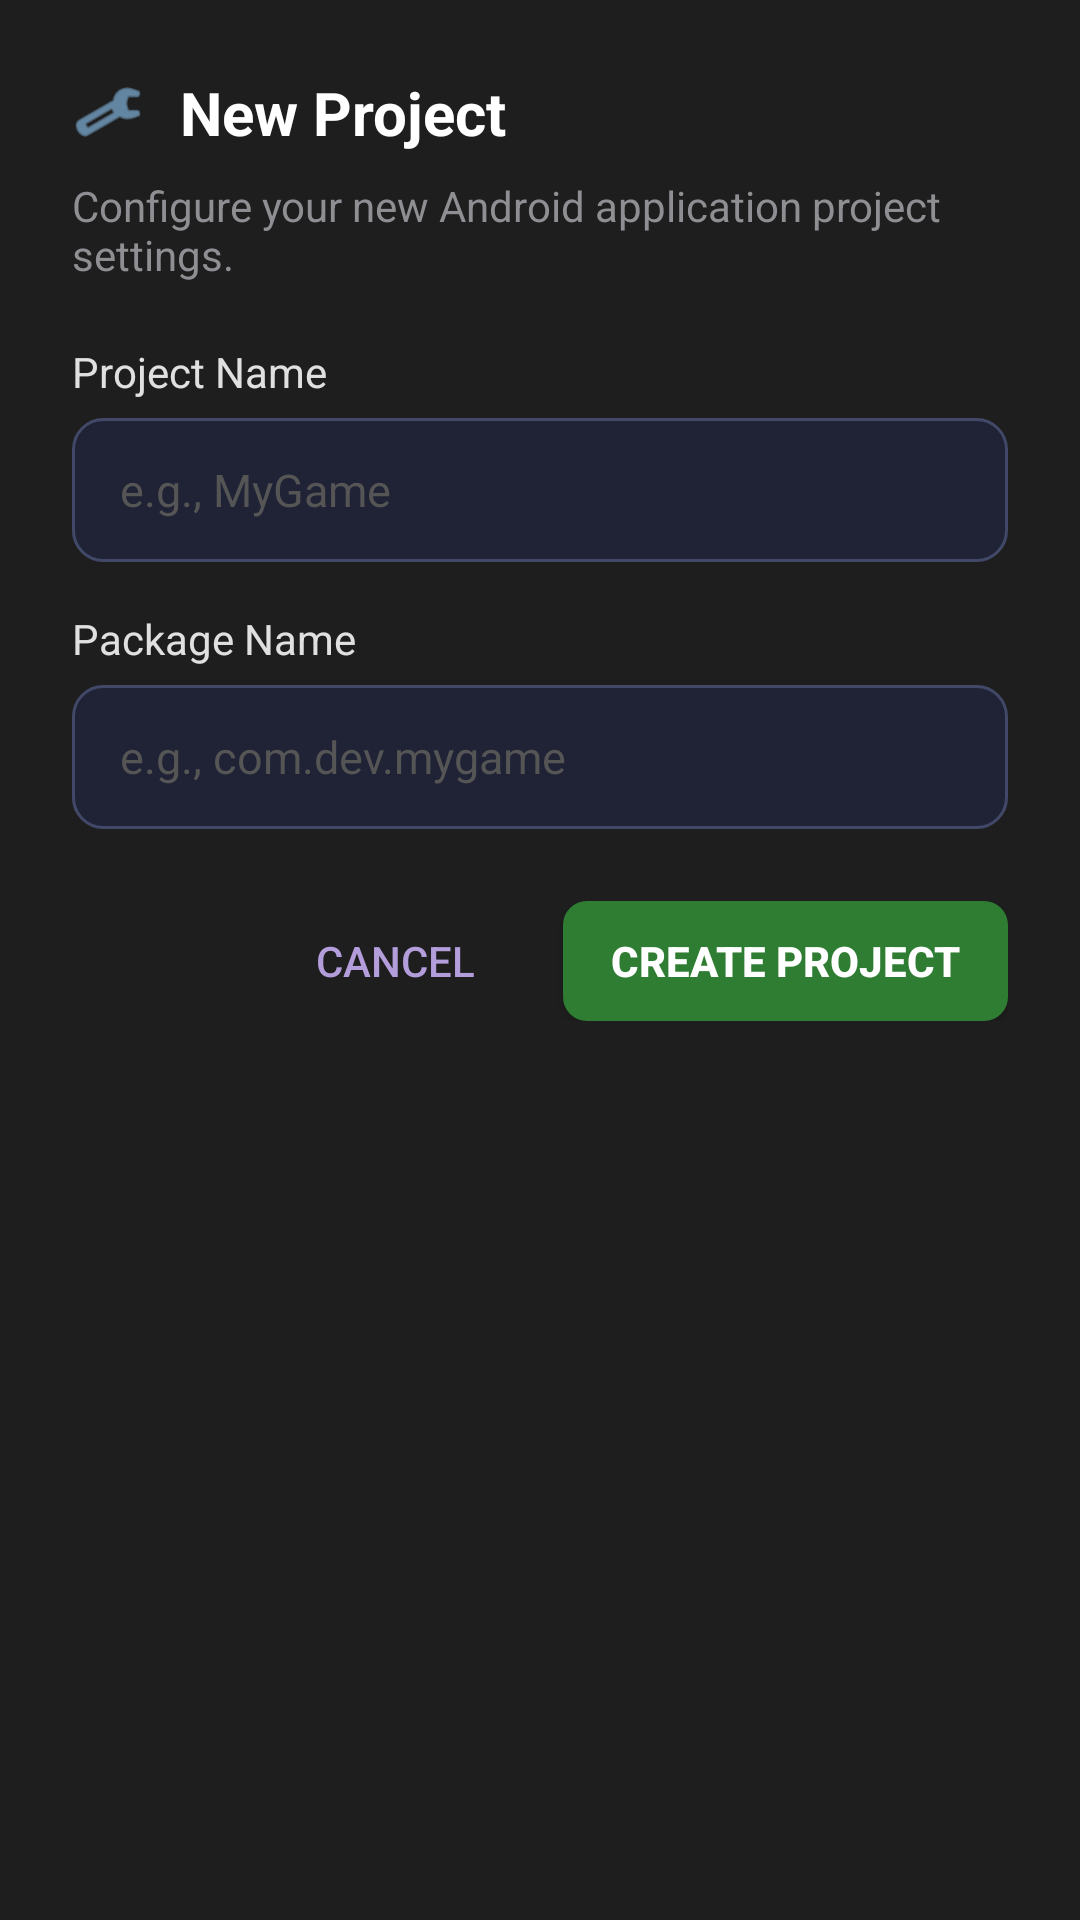

Where to tap for icons on this 1080px×1920px app screen, as point (x, y):
preferences: point (107, 112)
